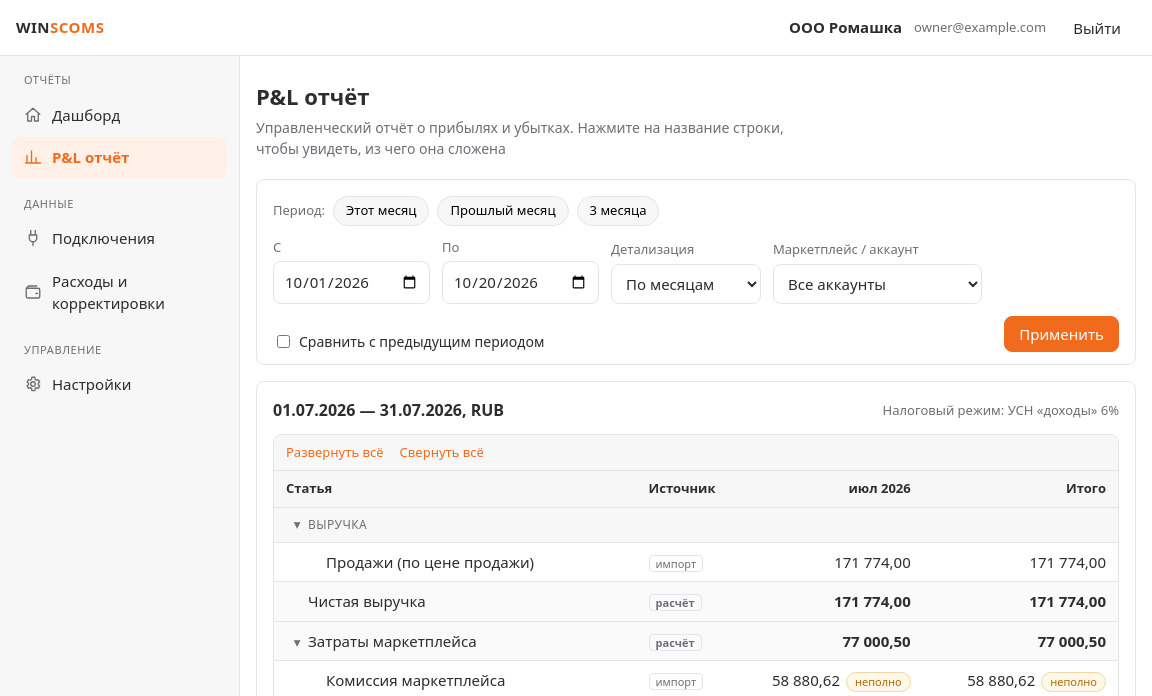
Scenario: страница P&L › неверный диапазон блокирует запрос
Type "2026-12-31" into the date field labelled "С".
click(352, 282); type("2026-12-31")  # box left=273, top=261, right=430, bottom=304
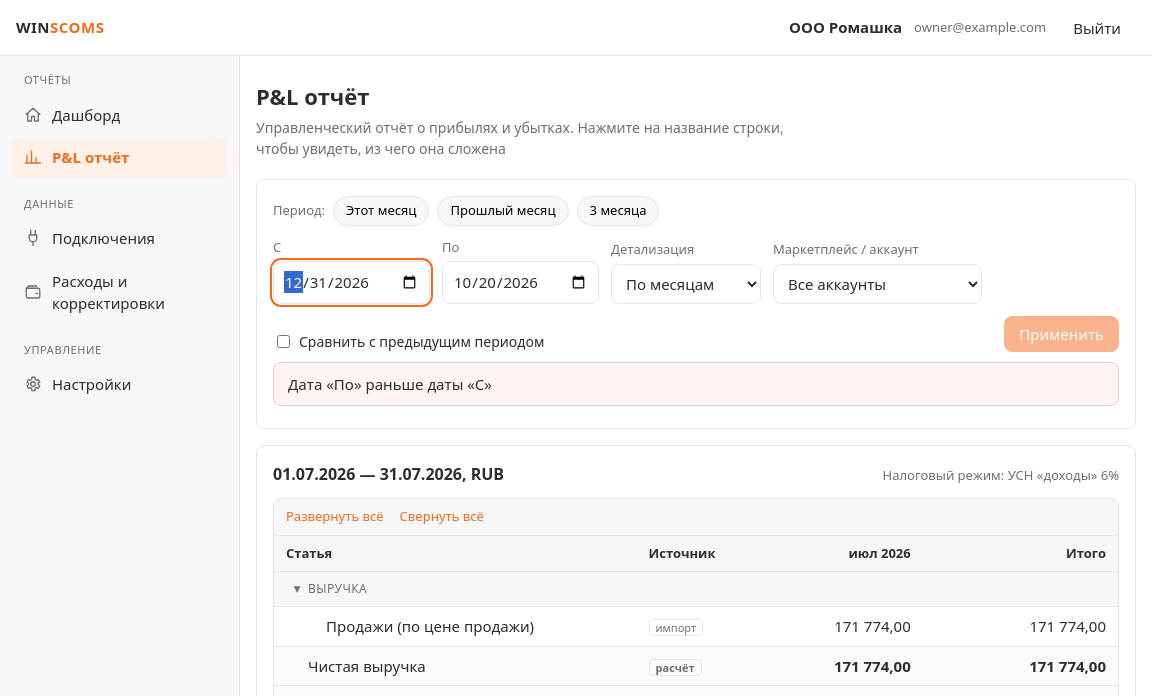
Expected: the text "Дата «По» раньше даты «С»" is shown, left=273, top=362, right=1119, bottom=406
Expected: the button "Применить" is disabled, left=1004, top=316, right=1119, bottom=352
